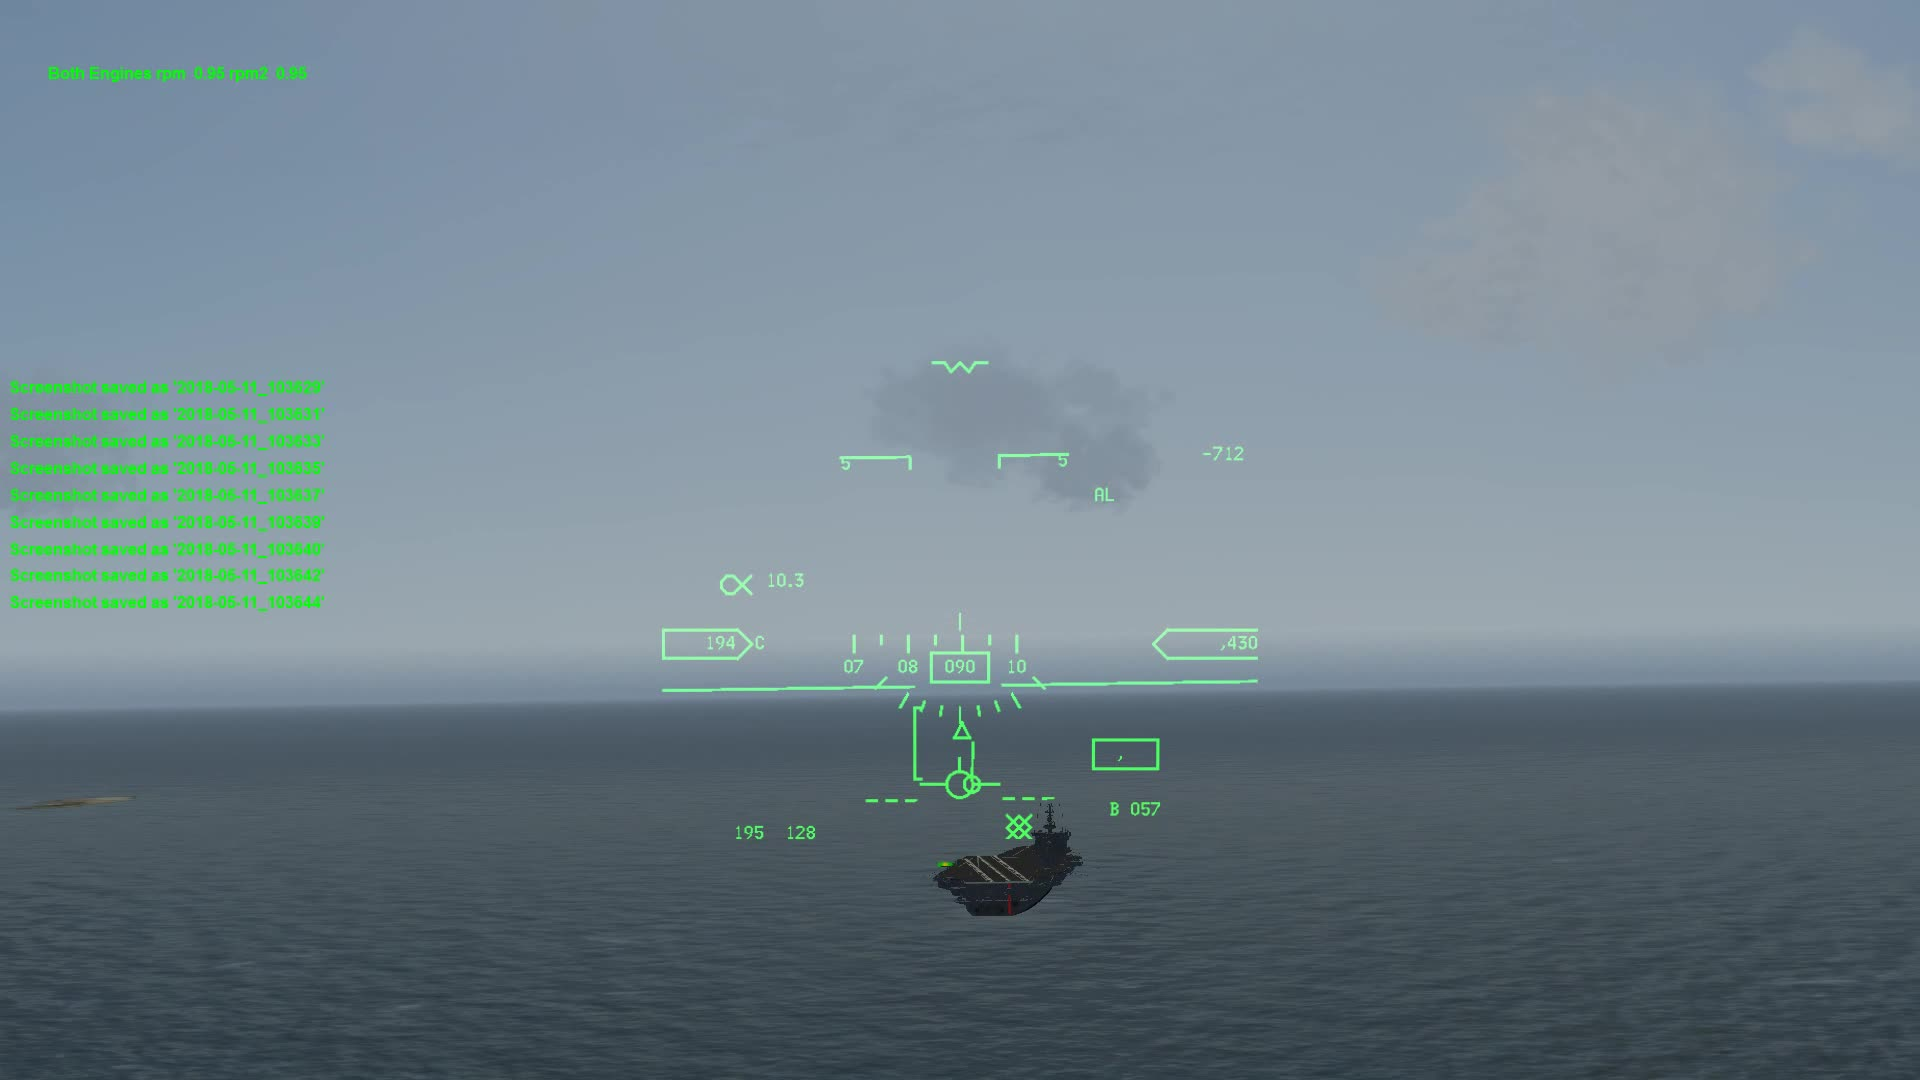speed_vector: (922, 756, 1005, 803)
